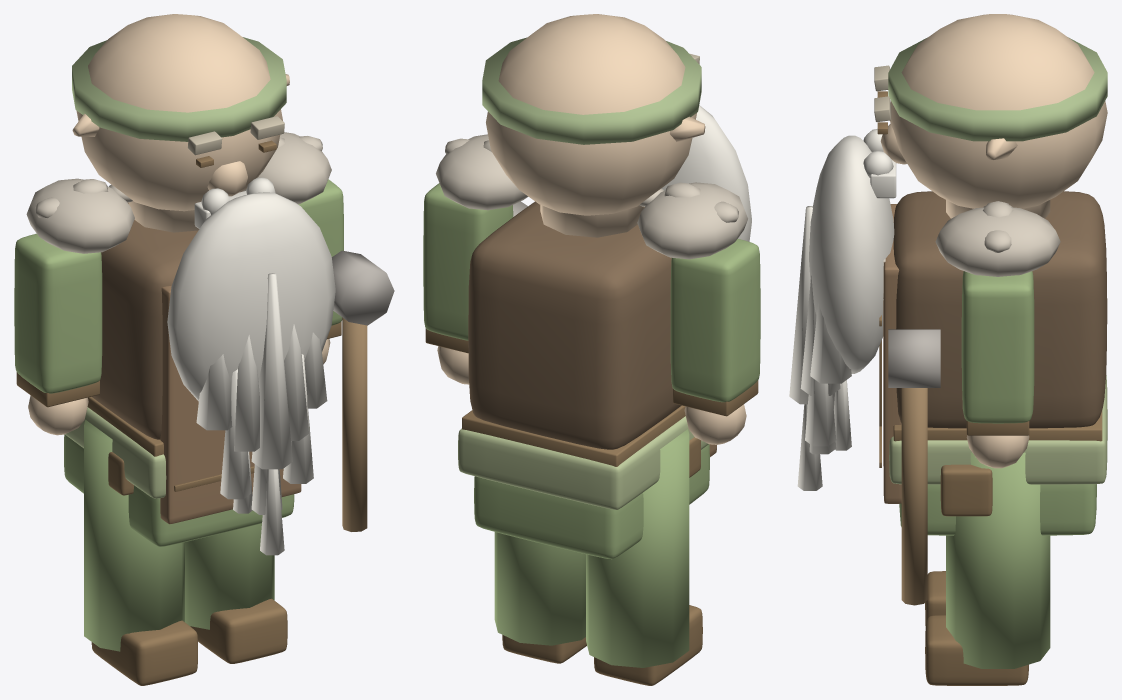
The model's file is npc_hod_v3.glb.
The picture shows the model from 3 angles, left to right: view 1: azimuth 30°, elevation 25°; view 2: azimuth 150°, elevation 25°; view 3: azimuth 270°, elevation 25°; orthographic projection. The views are drawn at different scales.
Visible parts, largest first — view 1: Head_Mesh, Beard_Mass, Trousers_L, Vest_Body, Sleeve_L, Apron, Headband, Trousers_R, Pauldron_L, Hammer_Haft, Tunic_Skirt, Beard_ruffle_strand_c (+22 smaller); view 2: Vest_Body, Head_Mesh, Trousers_L, Sleeve_L, Sash, Tunic_Skirt, Trousers_R, Headband, Sleeve_R, Pauldron_L, Pauldron_R, Beard_Mass (+9 smaller); view 3: Head_Mesh, Vest_Body, Trousers_R, Beard_Mass, Sleeve_R, Headband, Pauldron_R, Sash, Hammer_Haft, Tunic_Skirt, Boot_R, Hammer_Head (+18 smaller).
Boxes of the visible parts, x1,y1,x2,y2 form: Head_Mesh: [76, 14, 282, 211]; Beard_Mass: [167, 192, 335, 401]; Trousers_L: [84, 420, 184, 651]; Vest_Body: [92, 202, 198, 439]; Sleeve_L: [14, 233, 102, 393]; Apron: [160, 286, 301, 524]; Headband: [72, 37, 286, 141]; Trousers_R: [185, 523, 274, 629]; Pauldron_L: [26, 178, 134, 253]; Hammer_Haft: [342, 317, 367, 531]; Tunic_Skirt: [64, 434, 294, 546]; Beard_ruffle_strand_c: [251, 273, 292, 469]; Vest_Body: [468, 201, 681, 449]; Head_Mesh: [486, 14, 696, 215]; Trousers_L: [586, 429, 689, 667]; Sleeve_L: [670, 239, 760, 402]; Sash: [458, 416, 708, 509]; Tunic_Skirt: [474, 444, 709, 559]; Trousers_R: [494, 532, 585, 645]; Headband: [482, 37, 701, 144]; Sleeve_R: [423, 183, 513, 340]; Pauldron_L: [637, 182, 747, 259]; Pauldron_R: [436, 134, 528, 210]; Beard_Mass: [661, 105, 751, 241]; Head_Mesh: [890, 14, 1107, 208]; Vest_Body: [893, 191, 1107, 428]; Trousers_R: [946, 452, 1050, 668]; Beard_Mass: [809, 135, 894, 373]; Sleeve_R: [961, 271, 1034, 423]; Headband: [888, 37, 1107, 141]; Pauldron_R: [935, 207, 1060, 276]; Sash: [889, 375, 1107, 484]; Hammer_Haft: [901, 388, 927, 605]; Tunic_Skirt: [899, 484, 1096, 535]; Boot_R: [925, 615, 1028, 685]; Hammer_Head: [888, 329, 940, 387].
Bounding box in the file's own units: 0.6997 × 1.33 × 0.61.
